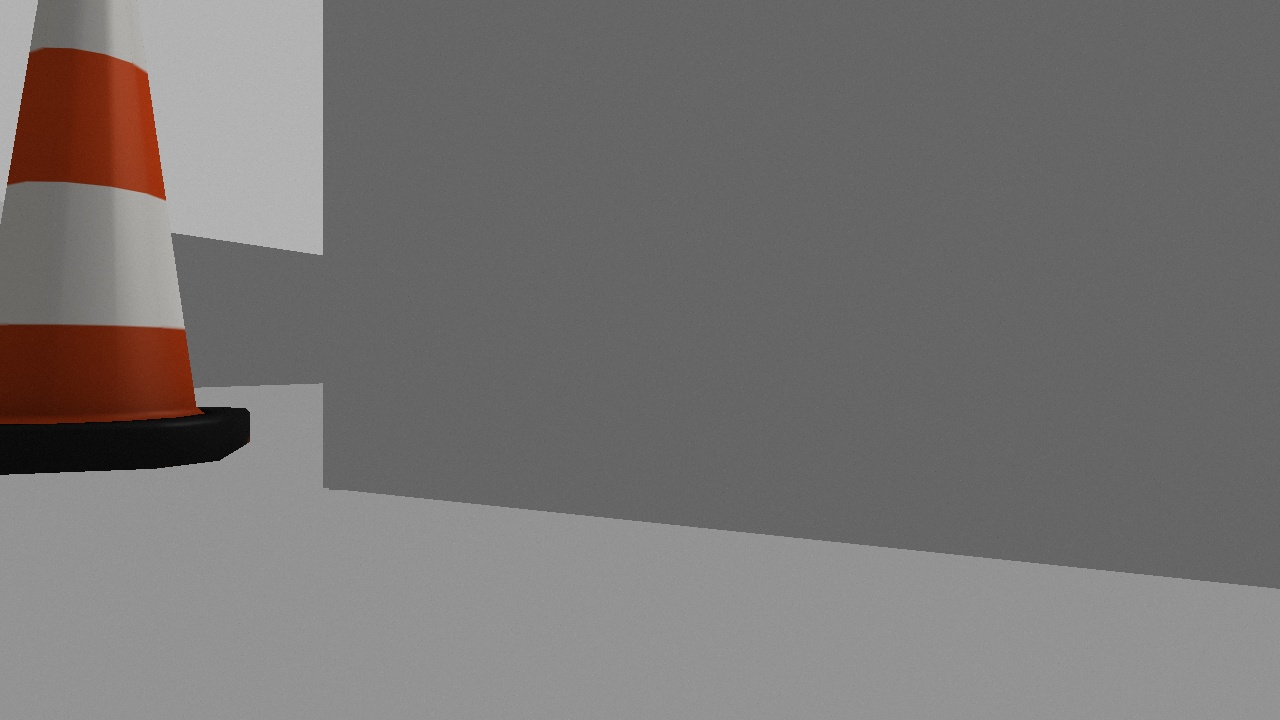barricade: (1, 1, 250, 471)
